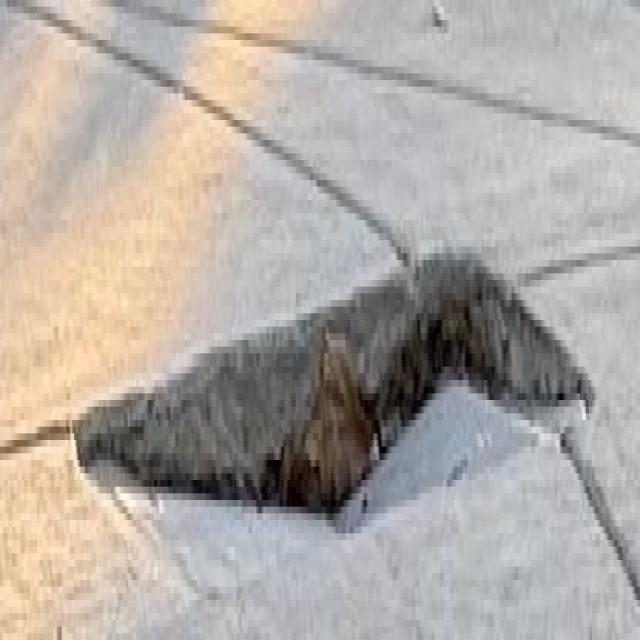hole: (80, 146, 602, 622)
